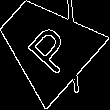P_NW: (15, 14, 76, 75)
